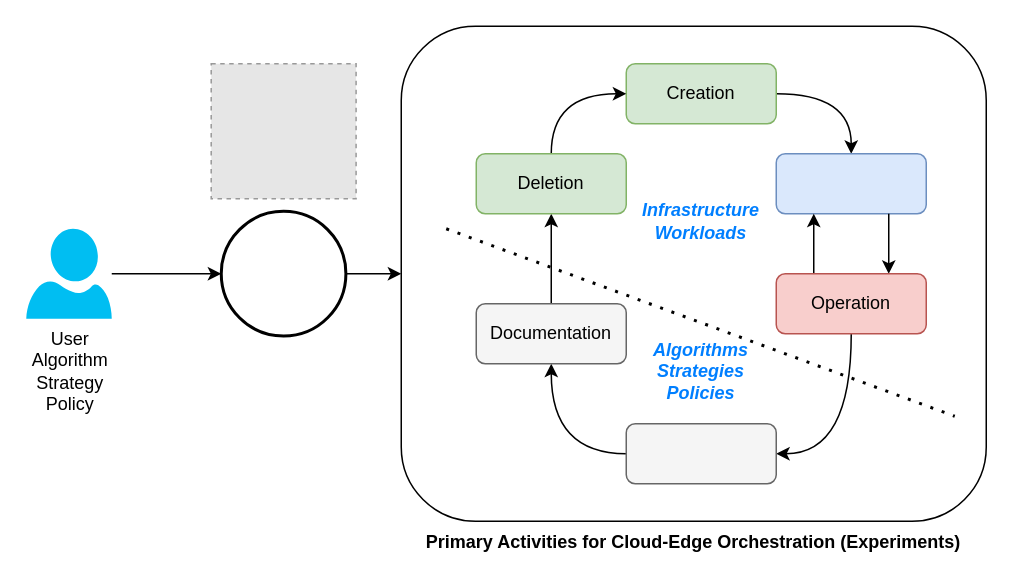
Some shapes in this 1013 by 579 pixel diagram are drawn without their labels. Grey dashed boxes stand in for pictures. The centre of each missing label's shape, as x and y in pixels:
"Evaluation" goes at (x=700, y=453).
"Monitoring" goes at (x=850, y=183).
"RESTful HTTP API" goes at (x=283, y=273).
